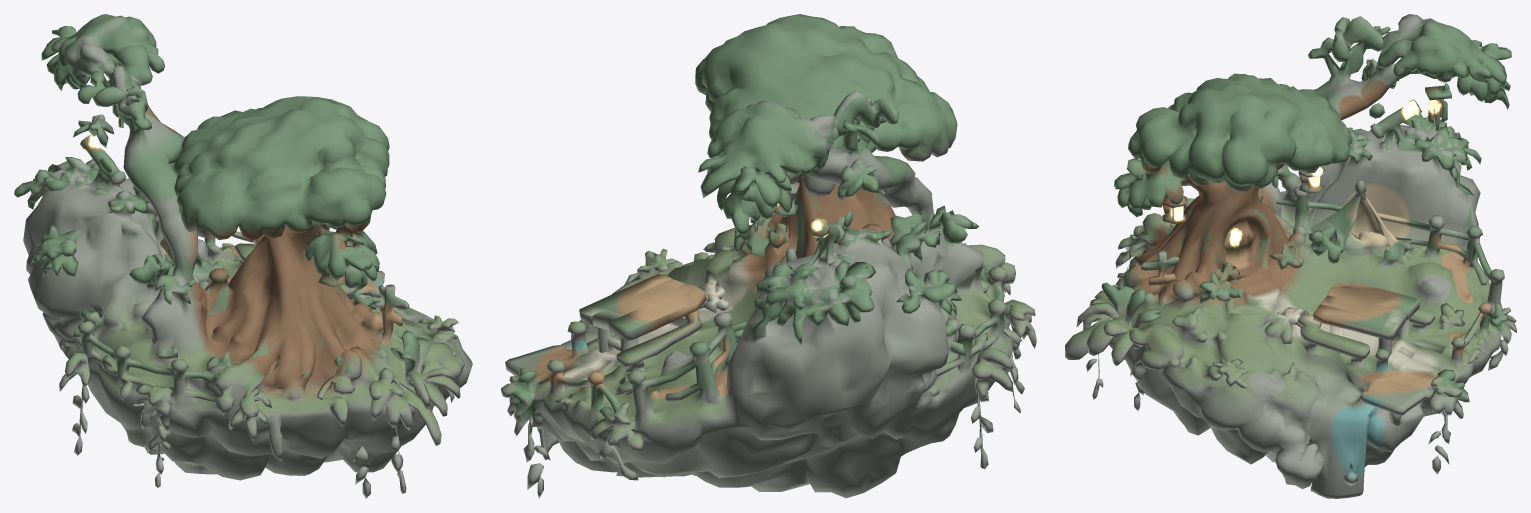
Rendered from forest.glb.
3 views of the same model, side by side, from view 1: azimuth 30°, elevation 25°; view 2: azimuth 150°, elevation 25°; view 3: azimuth 270°, elevation 25° (orthographic). The views are drawn at different scales.
Parts seen in each view (by area): view 1: UserWorld_forest; view 2: UserWorld_forest; view 3: UserWorld_forest.
Part boxes in pixels (left/top/right/bottom): UserWorld_forest: left=14, top=14, right=472, bottom=498; UserWorld_forest: left=501, top=14, right=1036, bottom=498; UserWorld_forest: left=1065, top=14, right=1516, bottom=498.
Size of the model in its own units: 9.79 by 9.41 by 10.38.
1 material, 1 textured.
